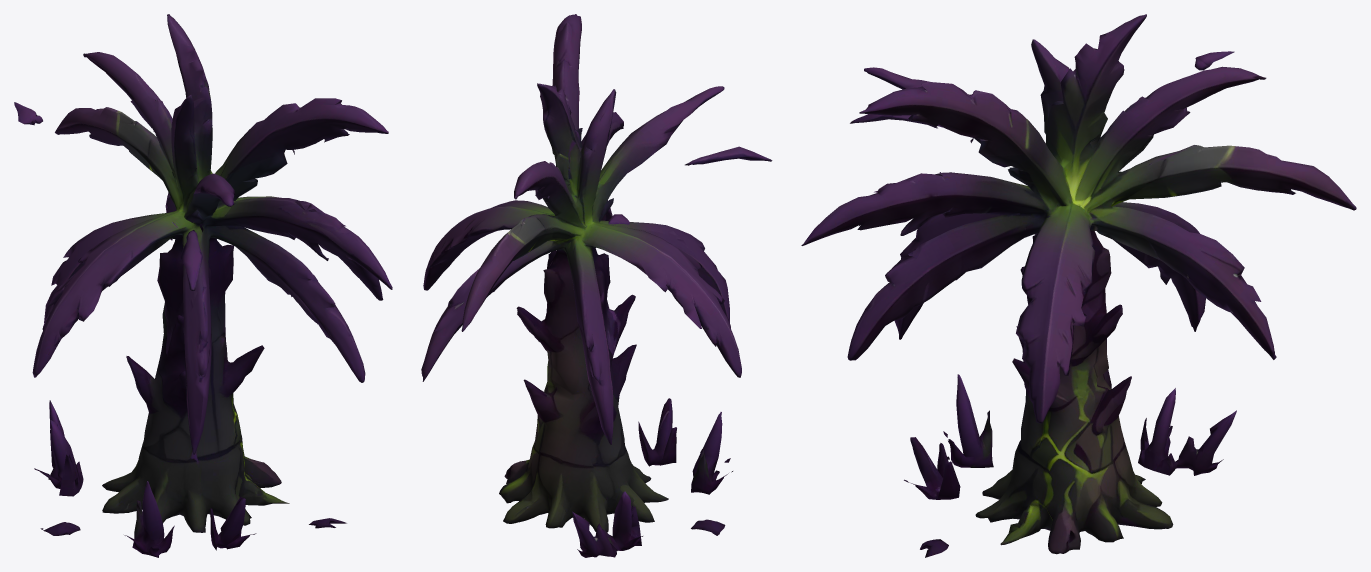
Rendered from SM_Vegetacion_PlantaFantastica_01.fbx.
3 renders of one model, left to right at view 1: azimuth 30°, elevation 25°; view 2: azimuth 150°, elevation 25°; view 3: azimuth 270°, elevation 25°, orthographic. The views are drawn at different scales.
Visible parts, largest first — view 1: SM_Vegetacion_PlantaFantastica_01; view 2: SM_Vegetacion_PlantaFantastica_01; view 3: SM_Vegetacion_PlantaFantastica_01.
Part boxes in pixels (x1,y1,x2,y2): SM_Vegetacion_PlantaFantastica_01: (14, 14, 392, 557); SM_Vegetacion_PlantaFantastica_01: (421, 14, 772, 557); SM_Vegetacion_PlantaFantastica_01: (801, 14, 1356, 557).
Size of the model in its own units: 0.7625 by 0.9799 by 0.981.
Materials: 1 (1 with a texture image).
